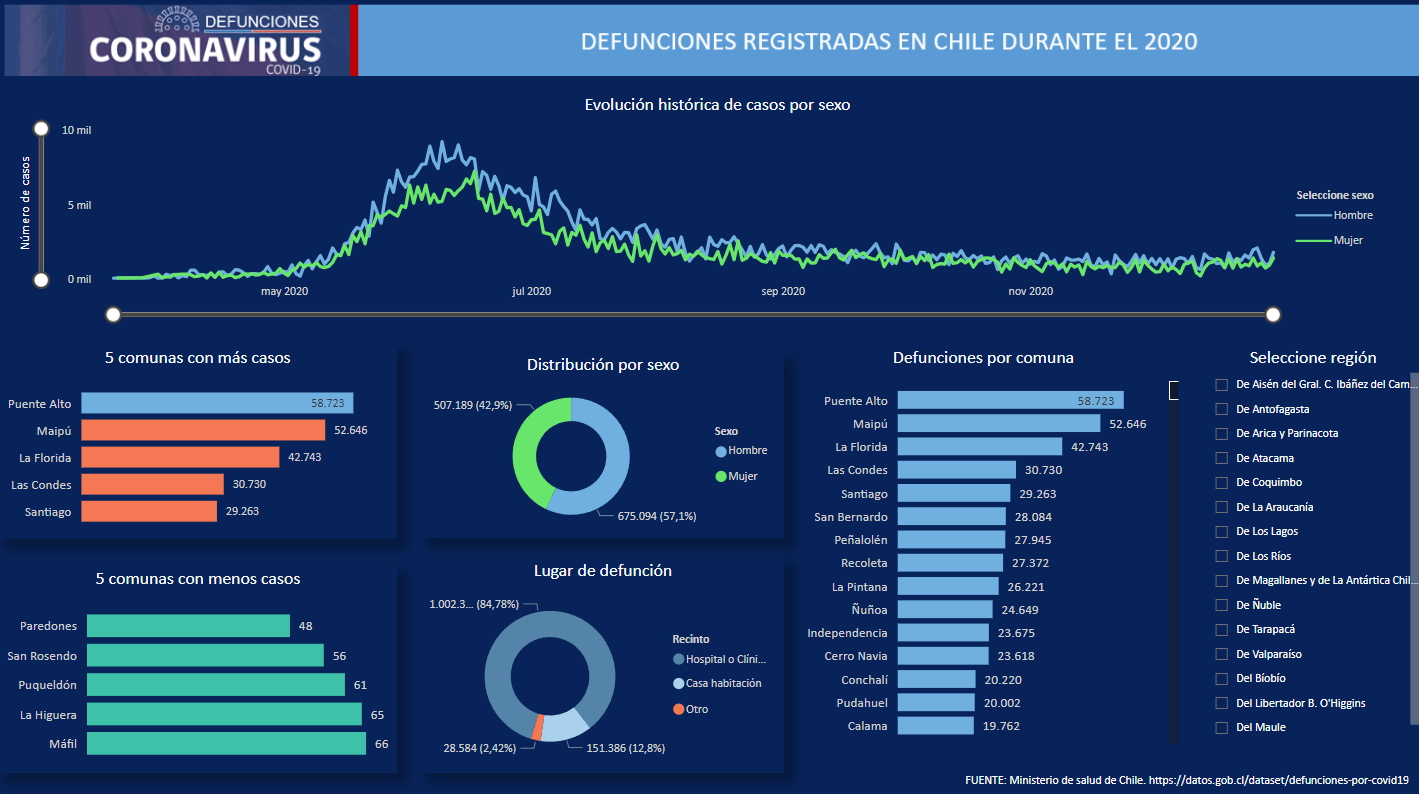

The dashboard page shown, as its layout file describes it:
{"tool":"powerbi","page":{"name":"Dash","canvas":[1280,720],"ordinal":0},"visuals":[{"type":"lineChart","title":"Evolución histórica de casos por sexo","fields":{"Category":["defunciones_covid19_2020_2024 csv.FECHA_DEF"],"Series":["defunciones_covid19_2020_2024 csv.SEXO_NOMBRE"],"Y":["Sum(defunciones_covid19_2020_2024 csv.EDAD_CANT)"]},"box":[9.7,85.6,1270.3,210.1],"z":0},{"type":"barChart","title":"5 comunas con más casos","fields":{"Category":["defunciones_covid19_2020_2024 csv.COMUNA"],"Y":["Sum(defunciones_covid19_2020_2024 csv.EDAD_CANT)"]},"box":[0,312.2,357,173.1],"z":1000},{"type":"clusteredBarChart","title":"Defunciones por comuna","fields":{"Category":["defunciones_covid19_2020_2024 csv.COMUNA"],"Y":["Sum(defunciones_covid19_2020_2024 csv.EDAD_CANT)"]},"box":[704.2,312.2,359.9,362.8],"z":2000},{"type":"clusteredBarChart","title":"5 comunas con menos casos","fields":{"Category":["defunciones_covid19_2020_2024 csv.COMUNA"],"Y":["Sum(defunciones_covid19_2020_2024 csv.EDAD_CANT)"]},"box":[0,510.6,357,184.8],"z":3000},{"type":"slicer","title":"Seleccione región","fields":{"Values":["defunciones_covid19_2020_2024 csv.NOMBRE_REGION"]},"box":[1078.7,312.2,201.3,362.8],"z":4000},{"type":"donutChart","title":"Distribución por sexo","fields":{"Category":["defunciones_covid19_2020_2024 csv.SEXO_NOMBRE"],"Y":["Sum(defunciones_covid19_2020_2024 csv.EDAD_CANT)"]},"box":[379.3,319,324.9,166.3],"z":6000},{"type":"donutChart","title":"Lugar de defunción","fields":{"Category":["defunciones_covid19_2020_2024 csv.LUGAR_DEFUNCION"],"Y":["Sum(defunciones_covid19_2020_2024 csv.EDAD_CANT)"]},"box":[379.3,503.8,324.9,191.6],"z":7000},{"type":"image","box":[0,0,1280,76.8],"z":8000},{"type":"textbox","box":[681.8,687.7,589.4,32.1],"z":9000}]}

Visuals, with their boxes in screenshot pixels (x1, y1, x2, y2), scaled from the page's 1280x720 canvas onto the 1419x794 screenshot:
"Evolución histórica de casos por sexo" lineChart: <bbox>11, 94, 1418, 326</bbox>
"5 comunas con más casos" barChart: <bbox>0, 344, 396, 535</bbox>
"Defunciones por comuna" clusteredBarChart: <bbox>781, 344, 1180, 744</bbox>
"5 comunas con menos casos" clusteredBarChart: <bbox>0, 563, 396, 767</bbox>
"Seleccione región" slicer: <bbox>1196, 344, 1418, 744</bbox>
"Distribución por sexo" donutChart: <bbox>420, 352, 781, 535</bbox>
"Lugar de defunción" donutChart: <bbox>420, 556, 781, 767</bbox>
image: <bbox>0, 0, 1418, 85</bbox>
textbox: <bbox>756, 758, 1409, 793</bbox>
